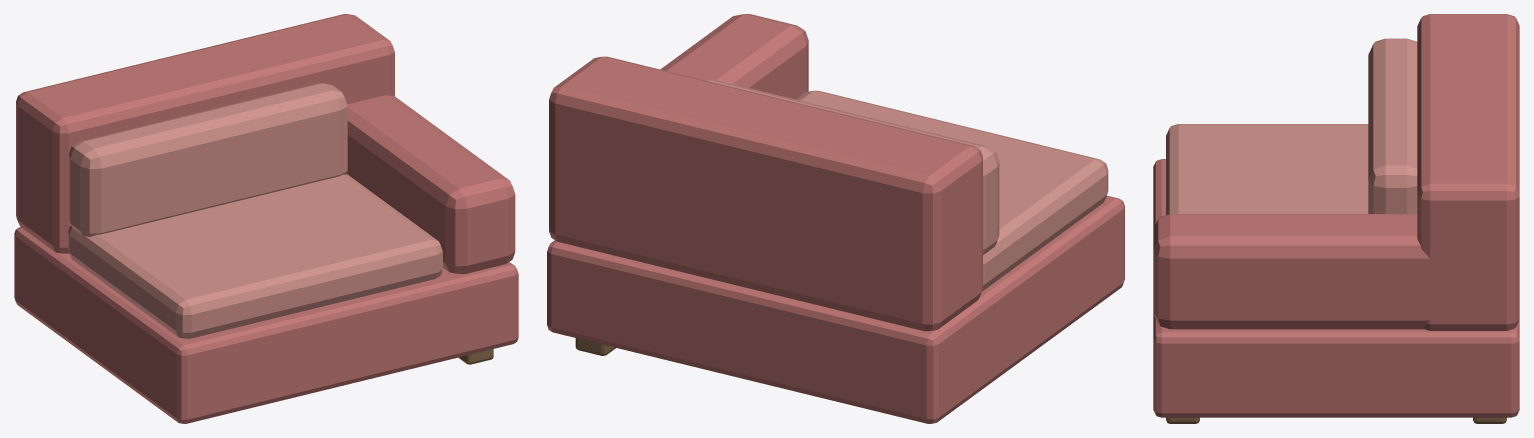
The model's file is sofa_right.glb.
3 renders of one model, left to right at view 1: azimuth 30°, elevation 25°; view 2: azimuth 150°, elevation 25°; view 3: azimuth 270°, elevation 25°, orthographic. The views are drawn at different scales.
Parts seen in each view (by area): view 1: sofa_right; view 2: sofa_right; view 3: sofa_right.
Boxes of the visible parts, x1=… form: sofa_right: x1=14, y1=14, x2=518, y2=423; sofa_right: x1=547, y1=14, x2=1124, y2=423; sofa_right: x1=1153, y1=14, x2=1519, y2=423.
Bounding box in the file's own units: 1 × 0.64 × 0.86.
